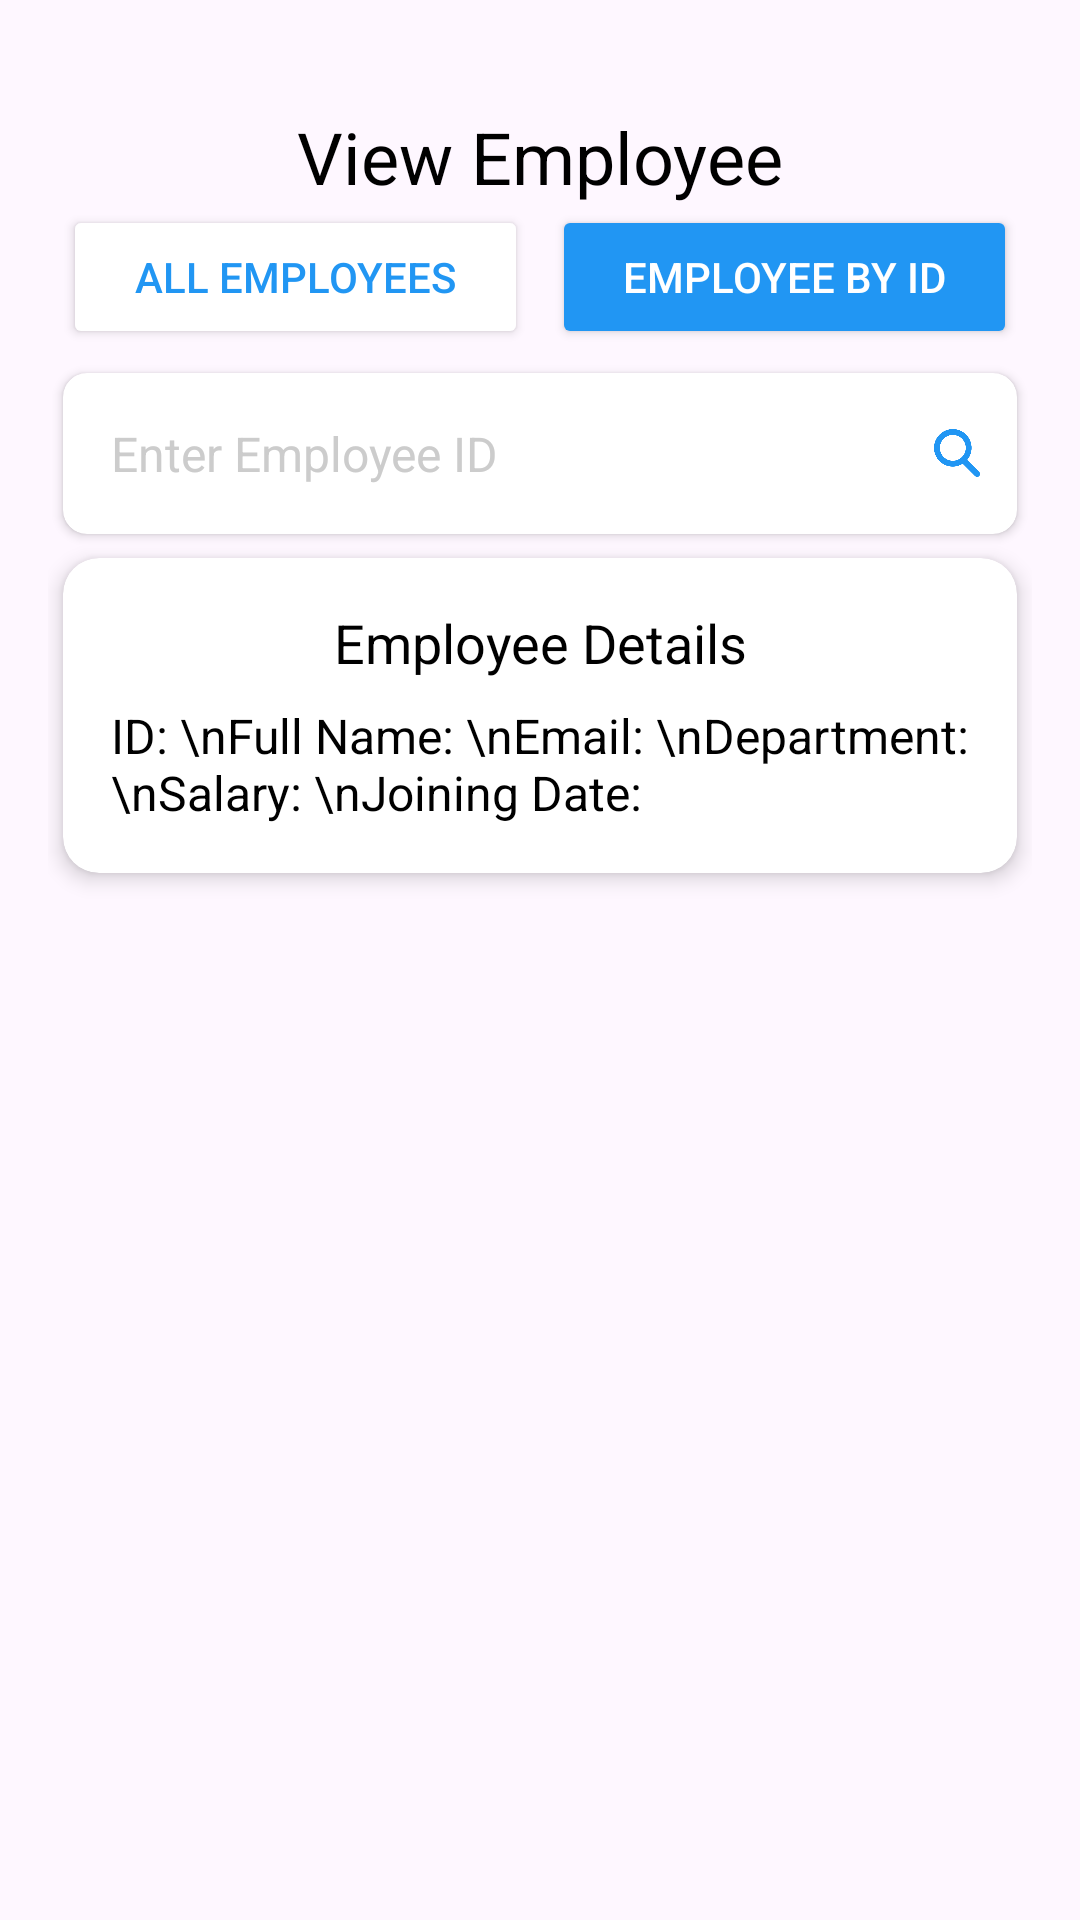

Icon bounding boxes for this 1080x1920 phone screenshot, format bbox=[x1, y1, x2, y2]:
Search Icon: bbox=[934, 429, 980, 477]
